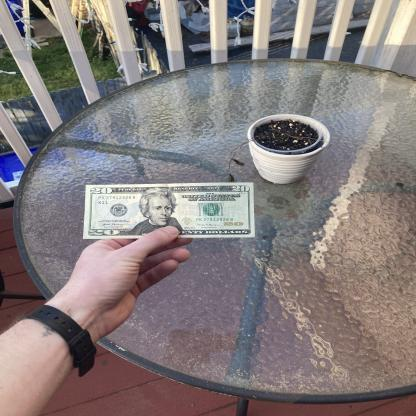twenty-front: (83, 182, 256, 240)
